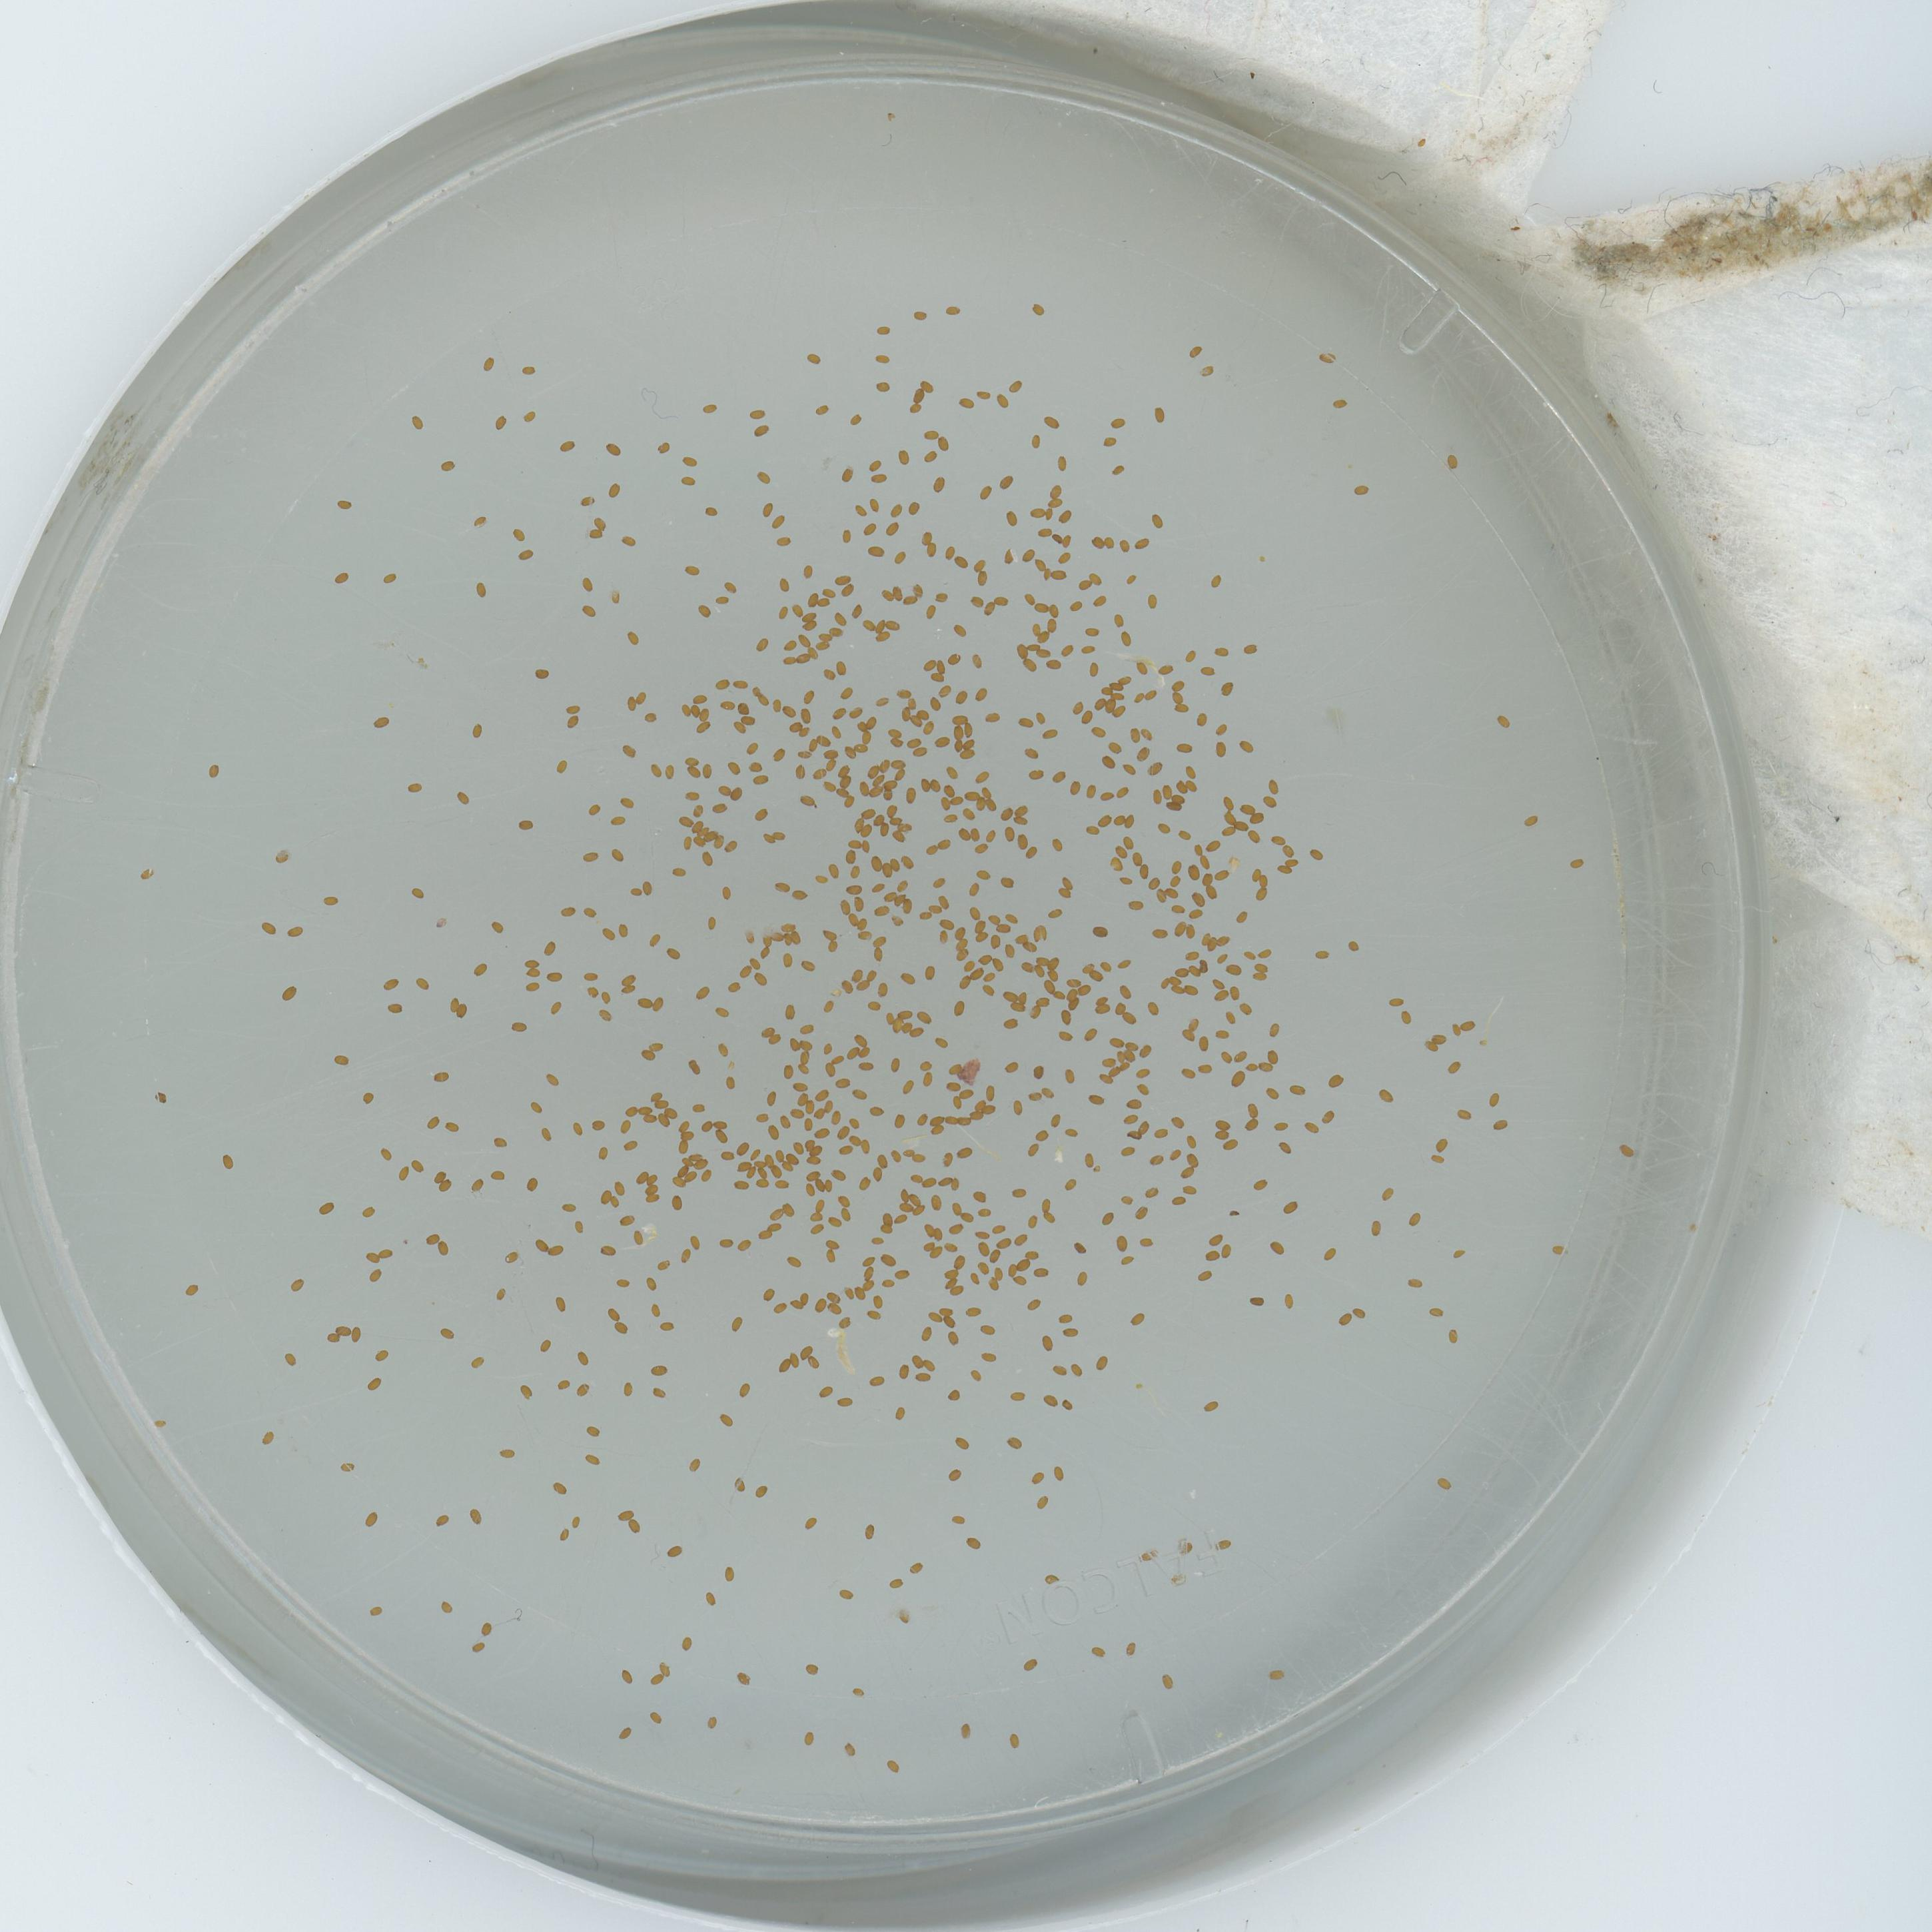seed: (1550, 1238, 1573, 1260), (1617, 1141, 1638, 1162), (1226, 1067, 1247, 1086), (885, 520, 904, 538), (605, 437, 623, 456), (957, 395, 977, 412), (694, 984, 713, 1001), (879, 1249, 899, 1267), (1132, 745, 1152, 763), (1039, 412, 1058, 430), (1001, 510, 1021, 527), (1030, 925, 1049, 943), (1111, 1231, 1131, 1249), (1168, 1111, 1187, 1129), (1058, 1323, 1077, 1341), (722, 577, 740, 594), (559, 902, 577, 920), (605, 481, 623, 499), (929, 474, 947, 492), (862, 520, 879, 538), (793, 763, 810, 780), (932, 587, 950, 605), (771, 747, 789, 764), (800, 793, 817, 810), (901, 853, 918, 870), (747, 683, 764, 701), (840, 582, 858, 600), (771, 513, 789, 531), (892, 1405, 909, 1422), (361, 1509, 379, 1527), (667, 1543, 685, 1560), (617, 1116, 635, 1134), (280, 984, 297, 1001), (862, 1522, 879, 1539), (782, 1001, 800, 1019), (524, 1173, 541, 1191), (998, 472, 1016, 490), (1212, 741, 1230, 759), (1150, 405, 1168, 423), (1090, 922, 1108, 939), (1005, 1433, 1023, 1451), (1037, 1332, 1054, 1350), (1302, 1116, 1320, 1134), (1267, 1237, 1284, 1254), (1058, 1065, 1076, 1083), (1139, 1548, 1157, 1566), (846, 881, 865, 897), (936, 913, 955, 929), (847, 704, 867, 720), (694, 720, 713, 736), (754, 694, 773, 709), (915, 1007, 934, 1023), (931, 1033, 950, 1049), (952, 1435, 971, 1451), (916, 1325, 936, 1341), (1125, 897, 1145, 913), (1017, 545, 1037, 561), (1039, 725, 1058, 741), (1085, 1090, 1104, 1106), (780, 639, 798, 655), (832, 610, 849, 626), (479, 356, 497, 372), (260, 918, 278, 934), (579, 492, 596, 508), (713, 800, 729, 817), (839, 685, 856, 701), (791, 888, 809, 904), (895, 448, 913, 464), (702, 504, 720, 520), (541, 939, 559, 955), (715, 593, 732, 609), (380, 570, 398, 586), (945, 651, 962, 667), (472, 580, 488, 598), (580, 904, 598, 920), (754, 807, 771, 823), (695, 603, 713, 619), (941, 543, 957, 561), (888, 502, 906, 518), (869, 541, 886, 557), (826, 863, 844, 879), (755, 469, 773, 485), (488, 918, 506, 934), (727, 759, 745, 775), (520, 361, 538, 377), (287, 922, 304, 938), (681, 453, 699, 469), (886, 616, 904, 632), (837, 899, 855, 915), (372, 713, 389, 729), (510, 525, 527, 541), (679, 472, 697, 488), (564, 701, 582, 717), (840, 467, 858, 483), (835, 570, 853, 586), (869, 855, 885, 872), (754, 423, 771, 439), (782, 653, 800, 669), (849, 602, 867, 617), (692, 690, 709, 706), (609, 847, 626, 863), (835, 660, 853, 676), (619, 796, 637, 812), (580, 603, 598, 619), (582, 849, 600, 865), (936, 433, 952, 451), (616, 922, 633, 938), (798, 632, 816, 648), (847, 865, 865, 881), (934, 734, 952, 750), (272, 849, 288, 867), (832, 724, 847, 741), (729, 786, 747, 801), (559, 1198, 577, 1214), (713, 1127, 731, 1143), (635, 993, 653, 1008), (947, 1219, 962, 1237), (869, 1166, 886, 1182), (918, 1072, 936, 1088), (888, 1054, 906, 1070), (812, 1196, 830, 1212), (467, 1507, 485, 1523), (658, 1316, 676, 1332), (856, 1175, 874, 1191), (375, 1145, 393, 1161), (218, 1152, 235, 1168), (364, 1375, 382, 1391), (869, 1371, 886, 1387), (839, 1585, 856, 1601), (552, 1479, 570, 1495), (586, 1451, 602, 1468), (258, 1430, 276, 1445), (736, 1139, 754, 1155), (469, 1177, 487, 1192), (651, 1361, 669, 1376), (612, 1320, 630, 1336), (442, 1116, 460, 1132), (642, 1276, 660, 1292), (734, 1670, 752, 1686), (738, 1380, 754, 1398), (494, 1284, 510, 1302), (800, 1017, 816, 1035), (617, 1210, 635, 1226), (817, 1382, 835, 1398), (685, 1058, 702, 1074), (678, 1635, 695, 1651), (182, 1281, 200, 1297), (281, 1350, 299, 1366), (782, 1062, 798, 1079), (317, 1198, 334, 1214), (575, 1348, 591, 1366), (780, 1201, 798, 1217), (771, 1299, 789, 1315), (373, 1346, 391, 1362), (536, 1336, 554, 1352), (786, 1253, 803, 1269), (690, 1099, 708, 1115), (856, 1058, 874, 1074), (423, 1230, 441, 1246), (510, 1017, 527, 1033), (648, 1300, 665, 1316), (803, 1514, 821, 1530), (793, 1077, 810, 1093), (651, 1384, 669, 1399), (667, 1192, 685, 1208), (582, 968, 600, 984), (826, 1288, 844, 1304), (338, 1458, 356, 1474), (798, 1049, 814, 1067), (847, 1113, 865, 1129), (826, 1212, 844, 1228), (646, 1191, 663, 1207), (909, 1023, 927, 1039), (752, 971, 770, 987), (973, 770, 991, 786), (1099, 755, 1116, 771), (1090, 724, 1108, 740), (993, 593, 1010, 609), (1090, 593, 1108, 609), (1212, 722, 1230, 738), (1046, 904, 1063, 920), (1237, 740, 1254, 755), (1219, 794, 1237, 810), (1157, 662, 1175, 678), (1021, 747, 1039, 763), (1120, 761, 1138, 777), (1116, 632, 1134, 648), (1046, 481, 1063, 497), (1047, 839, 1065, 855), (1249, 810, 1267, 826), (1106, 738, 1122, 755), (1148, 513, 1166, 529), (1330, 395, 1348, 410), (1198, 663, 1215, 679), (977, 483, 994, 499), (1191, 711, 1208, 727), (1146, 761, 1164, 777), (1099, 433, 1116, 449), (1014, 715, 1031, 731), (1352, 479, 1368, 497), (1175, 828, 1192, 844), (1253, 888, 1270, 904), (1169, 920, 1187, 936), (1313, 945, 1330, 961), (1569, 855, 1585, 872), (1033, 522, 1051, 538), (1217, 679, 1235, 695), (1168, 678, 1185, 694), (1138, 725, 1155, 741), (1237, 800, 1254, 816), (993, 391, 1010, 407), (1260, 794, 1277, 810), (1000, 943, 1017, 959), (1030, 557, 1047, 573), (970, 826, 985, 844), (962, 787, 980, 803), (1187, 893, 1205, 909), (1108, 462, 1125, 478), (991, 954, 1007, 971), (1046, 1111, 1063, 1127), (1010, 1230, 1028, 1246), (1123, 1093, 1141, 1109), (1141, 1182, 1159, 1198), (1116, 1191, 1134, 1207), (1237, 1000, 1254, 1016), (1116, 984, 1134, 1000), (1215, 1047, 1233, 1063), (1272, 1116, 1290, 1132), (1433, 1134, 1451, 1150), (1454, 1104, 1472, 1120), (1288, 1079, 1306, 1095), (1445, 1058, 1463, 1074), (1024, 1088, 1042, 1104), (1327, 1070, 1345, 1086), (1056, 1007, 1074, 1023), (1491, 1115, 1509, 1131), (1001, 1058, 1019, 1074), (1460, 1016, 1477, 1031), (1070, 1238, 1088, 1254), (1031, 1123, 1047, 1141), (1378, 1086, 1396, 1102), (1159, 1674, 1175, 1691), (1030, 1063, 1047, 1079), (1116, 1253, 1134, 1269), (1378, 1185, 1396, 1201), (1366, 1219, 1384, 1235), (1276, 1139, 1293, 1155), (1088, 1644, 1106, 1660), (1281, 1198, 1299, 1214), (1146, 1150, 1164, 1166), (1244, 1100, 1261, 1116), (1060, 1175, 1077, 1191), (1023, 1141, 1040, 1157), (1486, 1090, 1504, 1106), (1023, 1244, 1040, 1260), (1178, 1539, 1196, 1555), (1269, 1667, 1286, 1683), (872, 904, 892, 918), (747, 759, 766, 773), (1074, 579, 1093, 593), (1039, 1392, 1058, 1407), (1430, 1028, 1449, 1042), (812, 766, 828, 782), (906, 499, 922, 515), (876, 694, 892, 709), (322, 893, 338, 909), (333, 570, 349, 586), (718, 886, 734, 902), (672, 865, 688, 881), (492, 414, 508, 430), (704, 915, 720, 931), (922, 720, 938, 736), (518, 817, 534, 833), (913, 306, 929, 322), (522, 407, 538, 423), (409, 412, 425, 428), (778, 577, 794, 593), (580, 577, 596, 593), (336, 497, 352, 513), (472, 513, 488, 529), (534, 667, 550, 683), (755, 637, 771, 653), (717, 782, 732, 798), (623, 695, 639, 711), (950, 623, 966, 639), (621, 745, 637, 761), (817, 731, 833, 747), (777, 533, 793, 548), (690, 803, 706, 819), (559, 437, 575, 453), (469, 724, 485, 740), (904, 789, 920, 805), (600, 925, 616, 941), (775, 879, 791, 895), (750, 405, 766, 421), (720, 697, 736, 713), (869, 495, 885, 511), (801, 688, 817, 704), (844, 851, 860, 867), (556, 759, 571, 775), (610, 814, 626, 830), (862, 617, 878, 633), (656, 439, 672, 455), (625, 630, 640, 646), (849, 410, 865, 426), (925, 543, 941, 559), (662, 764, 678, 780), (941, 780, 957, 796), (922, 603, 938, 619), (761, 501, 777, 517), (621, 533, 637, 548), (908, 734, 924, 750), (780, 954, 796, 970), (922, 448, 938, 464), (665, 945, 681, 961), (640, 881, 656, 897), (725, 839, 741, 855), (648, 763, 663, 778), (205, 763, 221, 778), (775, 605, 791, 621), (644, 709, 660, 725), (853, 502, 869, 518), (867, 713, 883, 729), (587, 527, 603, 543), (648, 931, 663, 947), (901, 897, 916, 913), (844, 745, 860, 761), (943, 764, 959, 780), (678, 702, 694, 718), (929, 1192, 945, 1208), (556, 1375, 571, 1391), (901, 970, 916, 985), (895, 1364, 911, 1380), (872, 1293, 888, 1309), (605, 1304, 621, 1320), (554, 1295, 570, 1311), (386, 998, 402, 1014), (499, 1444, 515, 1460), (908, 1559, 924, 1575), (617, 1504, 633, 1520), (754, 1481, 770, 1497), (718, 1233, 734, 1249), (888, 1575, 904, 1591), (619, 1668, 635, 1684), (837, 1191, 853, 1207), (722, 1566, 738, 1582), (591, 1115, 607, 1131), (570, 1514, 586, 1530), (879, 1208, 895, 1224), (945, 1387, 961, 1403), (433, 1511, 449, 1527), (947, 1467, 962, 1483), (600, 1240, 616, 1256), (939, 1150, 955, 1166), (616, 1274, 632, 1290), (598, 1007, 614, 1023), (816, 1123, 832, 1139), (886, 1757, 902, 1773), (724, 1074, 740, 1090), (732, 1476, 748, 1491), (837, 1392, 853, 1408), (688, 1233, 704, 1249), (575, 1380, 591, 1396), (361, 1201, 377, 1217), (545, 1070, 561, 1086), (678, 1247, 694, 1263), (430, 1166, 446, 1182), (738, 1237, 754, 1253), (471, 1638, 487, 1654), (623, 1136, 639, 1152), (548, 998, 564, 1014), (439, 1325, 455, 1341), (395, 1164, 410, 1180), (617, 1723, 633, 1739), (948, 1200, 964, 1215), (612, 1178, 628, 1194), (626, 1518, 642, 1534), (763, 1284, 778, 1300), (288, 1276, 304, 1292), (950, 998, 966, 1014), (492, 1132, 508, 1148), (630, 1228, 646, 1244), (729, 1315, 745, 1330), (856, 977, 872, 993), (895, 1265, 911, 1281), (950, 1253, 966, 1269), (533, 1237, 548, 1253), (437, 1599, 453, 1615), (764, 1088, 780, 1104), (349, 1325, 364, 1341), (556, 1527, 571, 1543), (918, 1054, 934, 1070), (435, 1240, 451, 1256), (333, 1049, 349, 1065), (548, 1242, 564, 1258), (518, 1382, 534, 1398), (359, 1088, 375, 1104), (425, 1113, 441, 1129), (594, 1145, 610, 1161), (410, 1157, 426, 1173), (704, 1591, 720, 1606), (432, 1067, 448, 1083), (839, 1207, 855, 1223), (718, 1412, 734, 1428), (777, 1357, 793, 1373), (715, 1003, 731, 1019), (538, 1125, 554, 1141), (837, 1315, 853, 1330), (807, 1355, 823, 1371), (571, 1217, 587, 1233), (823, 1247, 839, 1263), (881, 1274, 897, 1290), (823, 1062, 839, 1077), (379, 1244, 395, 1260), (924, 1357, 939, 1373), (632, 1168, 648, 1184), (821, 1040, 837, 1056), (810, 1208, 826, 1224), (858, 1044, 874, 1060), (842, 1741, 858, 1757), (801, 1730, 817, 1746), (872, 1150, 888, 1166), (794, 1092, 810, 1108), (1007, 377, 1023, 393), (998, 874, 1014, 890), (1184, 863, 1200, 879), (1214, 644, 1230, 660), (1083, 625, 1099, 640), (1182, 648, 1198, 663), (1109, 414, 1125, 430), (985, 709, 1001, 725), (1187, 343, 1203, 359), (1233, 909, 1249, 925), (975, 386, 991, 402), (1214, 869, 1230, 885), (1053, 455, 1069, 471), (1219, 810, 1235, 826), (1109, 612, 1125, 628), (968, 653, 984, 669), (973, 686, 989, 702), (1065, 780, 1081, 796), (1127, 851, 1143, 867), (1145, 593, 1161, 609), (1067, 699, 1083, 715), (1026, 766, 1042, 782), (1495, 713, 1511, 729), (1056, 508, 1072, 524), (1058, 874, 1074, 890), (1086, 570, 1102, 586), (1049, 770, 1065, 786), (968, 904, 984, 920), (1014, 833, 1030, 849), (1086, 533, 1102, 548), (1083, 784, 1099, 800), (1182, 764, 1198, 780), (1079, 642, 1095, 658), (1023, 846, 1039, 862), (1058, 642, 1074, 658), (1123, 727, 1139, 743), (984, 828, 1000, 844), (996, 807, 1012, 823), (1198, 363, 1214, 379), (1318, 349, 1334, 364), (1000, 548, 1016, 564), (1444, 453, 1460, 469), (984, 796, 1000, 812), (1099, 1208, 1115, 1224), (1132, 1203, 1148, 1219), (1145, 1000, 1161, 1016), (1263, 1083, 1279, 1099), (1129, 1309, 1145, 1325), (1178, 1026, 1194, 1042), (966, 1534, 982, 1550), (975, 1226, 991, 1242), (1028, 1468, 1044, 1484), (1093, 1353, 1109, 1369), (1407, 1274, 1422, 1290), (1445, 1327, 1461, 1343), (1040, 1083, 1056, 1099), (1049, 1465, 1065, 1481), (1021, 1656, 1037, 1672), (1083, 1026, 1099, 1042), (1263, 1046, 1279, 1062), (1058, 1028, 1074, 1044), (1031, 1265, 1047, 1281), (1069, 1361, 1085, 1376), (1215, 1536, 1231, 1552), (1207, 1230, 1223, 1246), (1122, 1640, 1138, 1656), (1265, 1021, 1281, 1037), (1120, 1010, 1136, 1026), (1062, 1123, 1077, 1139), (1352, 1304, 1368, 1320), (1196, 1267, 1212, 1283), (1398, 1008, 1414, 1024), (1072, 1270, 1088, 1286), (1003, 1014, 1019, 1030), (1024, 1295, 1040, 1311), (1407, 1210, 1422, 1226), (968, 1366, 984, 1382), (1122, 1109, 1138, 1125), (987, 1247, 1003, 1263), (1180, 1180, 1196, 1196), (1221, 1008, 1237, 1024), (1042, 1571, 1058, 1587), (1058, 1396, 1074, 1412), (1233, 1046, 1249, 1062), (1428, 1304, 1444, 1320), (1077, 980, 1093, 996), (1336, 1311, 1352, 1327), (1447, 1021, 1463, 1037), (975, 1242, 991, 1258), (895, 1610, 911, 1626), (140, 865, 156, 881), (435, 916, 451, 932), (961, 750, 977, 766), (876, 350, 893, 364), (801, 564, 819, 579), (812, 874, 830, 888), (701, 853, 718, 867), (867, 456, 885, 471), (754, 775, 771, 789), (685, 754, 702, 768), (405, 780, 423, 794), (872, 932, 890, 947), (897, 685, 915, 699), (830, 625, 847, 639), (685, 789, 702, 803), (771, 828, 789, 842), (784, 704, 801, 718), (607, 591, 625, 605), (761, 833, 778, 847), (901, 1079, 918, 1093), (732, 1177, 750, 1191), (870, 1231, 888, 1246), (699, 1168, 717, 1182), (674, 1138, 692, 1152), (648, 1674, 665, 1688), (617, 982, 635, 996), (945, 1060, 962, 1074), (639, 1047, 656, 1062), (366, 1267, 384, 1281), (828, 1300, 846, 1315), (363, 1249, 380, 1263), (619, 971, 637, 985), (366, 1603, 384, 1617), (784, 1152, 801, 1166), (478, 1621, 495, 1635), (545, 970, 563, 984), (324, 1330, 341, 1345), (892, 1115, 909, 1129), (725, 980, 743, 994), (584, 984, 602, 998), (736, 966, 754, 980), (948, 1284, 966, 1299), (943, 1265, 961, 1279), (924, 1173, 941, 1187), (152, 1088, 170, 1102), (943, 1113, 961, 1127), (1246, 832, 1263, 846), (1021, 658, 1039, 672), (1113, 784, 1131, 798), (1168, 902, 1185, 916), (1044, 658, 1062, 672), (1185, 909, 1203, 924), (1150, 925, 1168, 939), (1116, 876, 1134, 890), (1203, 839, 1221, 853), (1164, 886, 1182, 901), (1145, 878, 1162, 892), (1166, 862, 1184, 876), (1093, 814, 1111, 828), (1212, 950, 1230, 964), (1306, 847, 1323, 862), (1166, 801, 1184, 816), (1219, 826, 1237, 840), (1148, 789, 1162, 807), (1132, 662, 1150, 676), (1109, 998, 1127, 1012), (1214, 1115, 1231, 1129), (1178, 1065, 1196, 1079), (1242, 1116, 1260, 1131), (1136, 1233, 1154, 1247), (978, 1322, 996, 1336), (1008, 1389, 1026, 1403), (1212, 1024, 1230, 1039), (1279, 1293, 1297, 1307), (1008, 1100, 1026, 1115), (1182, 1134, 1200, 1148), (1035, 1196, 1053, 1210), (1201, 1247, 1219, 1261), (1132, 1079, 1150, 1093), (989, 1219, 1007, 1233), (1194, 1035, 1212, 1049), (1247, 1293, 1265, 1307), (1320, 1246, 1338, 1260), (1208, 975, 1226, 989), (1095, 1070, 1113, 1085), (1086, 970, 1104, 984), (1228, 982, 1242, 1000), (1449, 1246, 1467, 1260), (943, 1276, 961, 1290), (1198, 957, 1212, 975), (855, 1284, 867, 1304), (1185, 964, 1205, 977), (745, 741, 761, 755), (853, 897, 869, 911), (929, 671, 945, 685), (455, 791, 471, 805), (587, 803, 603, 817), (832, 706, 847, 720), (591, 515, 607, 529), (945, 812, 961, 826), (893, 550, 909, 564), (908, 403, 924, 418), (839, 529, 855, 543), (685, 563, 701, 577), (715, 678, 731, 692), (821, 584, 837, 598), (872, 472, 888, 487), (862, 807, 878, 821), (678, 814, 694, 828), (807, 350, 823, 364), (518, 547, 534, 561), (870, 881, 886, 895), (816, 402, 832, 416), (738, 701, 754, 715), (945, 303, 961, 317), (878, 322, 893, 336), (924, 426, 939, 441), (702, 764, 717, 780), (686, 768, 702, 782), (876, 379, 892, 393), (410, 885, 425, 901), (895, 879, 911, 893), (899, 708, 915, 722), (702, 400, 718, 414), (934, 931, 950, 945), (936, 837, 952, 851), (637, 690, 651, 706), (564, 717, 580, 731), (441, 456, 455, 472), (888, 725, 904, 740), (885, 803, 901, 817), (734, 676, 750, 690), (931, 876, 947, 890), (872, 947, 886, 962), (909, 582, 925, 596), (821, 669, 837, 683), (791, 602, 805, 617), (883, 890, 899, 904), (938, 796, 952, 812), (952, 725, 966, 741), (936, 685, 952, 699), (823, 780, 839, 794), (713, 833, 727, 849), (844, 796, 860, 810), (950, 711, 966, 725), (770, 697, 784, 713), (846, 837, 862, 851), (628, 886, 644, 901), (920, 375, 934, 391), (796, 651, 812, 665), (787, 720, 803, 734), (823, 747, 839, 761), (939, 895, 954, 911), (801, 621, 817, 635), (862, 824, 878, 839), (879, 586, 893, 602), (851, 817, 865, 833), (803, 607, 819, 621), (922, 656, 936, 672), (839, 764, 855, 778), (860, 731, 876, 745), (817, 628, 833, 642), (770, 929, 786, 943), (812, 1297, 828, 1311), (586, 1422, 602, 1437), (853, 1030, 869, 1044), (839, 1141, 855, 1155), (382, 977, 398, 991), (826, 1235, 842, 1249), (867, 998, 883, 1012), (816, 1085, 832, 1099), (334, 1320, 349, 1336), (649, 1035, 665, 1049), (835, 1074, 851, 1088), (469, 1353, 485, 1368), (713, 1115, 729, 1129), (686, 1456, 702, 1470), (524, 966, 540, 980), (915, 1369, 931, 1384), (876, 982, 892, 996), (720, 1146, 736, 1161), (490, 1168, 506, 1182), (621, 1382, 637, 1396), (786, 1037, 801, 1051), (570, 1120, 586, 1134), (821, 998, 837, 1012), (865, 968, 881, 982), (805, 1661, 821, 1675), (651, 996, 667, 1010), (920, 1238, 936, 1253), (502, 1249, 518, 1263), (598, 989, 614, 1003), (656, 1256, 672, 1270), (649, 1711, 665, 1725), (529, 1099, 545, 1113), (798, 1290, 814, 1304), (801, 1184, 817, 1198), (697, 1116, 713, 1131), (775, 1178, 791, 1192), (839, 978, 855, 993), (927, 1309, 943, 1323), (909, 1353, 925, 1368), (718, 1042, 734, 1056), (805, 1168, 821, 1182), (938, 1173, 954, 1187), (766, 1123, 782, 1138), (456, 1003, 471, 1019), (851, 1684, 867, 1698), (800, 1341, 816, 1355), (929, 1125, 945, 1139), (950, 1511, 964, 1527), (524, 978, 540, 993), (770, 1207, 784, 1223), (947, 1077, 962, 1092), (800, 1037, 816, 1051), (596, 1189, 612, 1203), (754, 1177, 770, 1191), (437, 1178, 453, 1192), (757, 1228, 773, 1242), (932, 1224, 947, 1240), (915, 1113, 929, 1129), (706, 1716, 722, 1730), (835, 1123, 851, 1138), (759, 1023, 775, 1037), (862, 1253, 878, 1267), (913, 1150, 929, 1164), (890, 1146, 904, 1162), (755, 1109, 771, 1123), (658, 1660, 672, 1675), (683, 1168, 699, 1182), (789, 1352, 803, 1368), (851, 966, 865, 982), (656, 1113, 672, 1127), (745, 1164, 761, 1178), (1269, 832, 1284, 846), (985, 934, 1001, 948), (1031, 600, 1047, 614), (1031, 711, 1047, 725), (1279, 844, 1295, 858), (1079, 709, 1095, 724), (985, 909, 1001, 924), (1019, 591, 1035, 605), (1083, 826, 1099, 840), (1265, 780, 1281, 794), (975, 869, 991, 883), (1132, 536, 1148, 550), (1099, 789, 1115, 803), (1207, 575, 1223, 589), (1155, 823, 1171, 837), (1003, 909, 1019, 924), (966, 885, 982, 899), (1085, 663, 1100, 678), (1026, 504, 1042, 518), (977, 950, 993, 964), (973, 844, 989, 858), (1054, 550, 1070, 564), (971, 920, 987, 934), (1026, 433, 1042, 448), (1242, 642, 1258, 656), (970, 594, 984, 610), (1067, 598, 1083, 612), (975, 571, 991, 586), (1187, 844, 1203, 858), (1051, 568, 1067, 582), (1109, 814, 1125, 828), (1184, 947, 1200, 961), (1111, 846, 1127, 860), (1175, 741, 1191, 755), (1014, 931, 1030, 945), (1203, 886, 1219, 901), (1012, 644, 1028, 658), (971, 557, 987, 571), (1028, 301, 1044, 315), (1525, 814, 1541, 828), (1134, 865, 1150, 879), (1111, 704, 1127, 718), (1014, 801, 1028, 817), (1120, 833, 1134, 849), (1184, 924, 1200, 938), (1152, 890, 1168, 904), (1035, 630, 1051, 644), (973, 931, 989, 945), (982, 602, 996, 617), (1249, 869, 1265, 883), (1122, 573, 1138, 587), (1008, 998, 1024, 1012), (980, 1350, 996, 1364), (1081, 1152, 1095, 1168), (1223, 1138, 1238, 1152), (1166, 1146, 1182, 1161), (966, 1304, 982, 1318), (1099, 1053, 1115, 1067), (1056, 1309, 1072, 1323), (1212, 987, 1228, 1001), (1171, 1192, 1185, 1208), (1203, 1398, 1219, 1412), (1136, 1042, 1152, 1056), (1196, 1060, 1212, 1074), (1320, 1108, 1336, 1122), (1389, 994, 1405, 1008), (1109, 1033, 1123, 1049), (1001, 987, 1017, 1001), (1033, 993, 1049, 1007), (1023, 1214, 1039, 1228), (1120, 1143, 1136, 1157), (1253, 1177, 1269, 1191), (1428, 1150, 1444, 1164), (1010, 1185, 1026, 1200), (977, 1258, 991, 1274), (1219, 1242, 1233, 1258), (1178, 1166, 1194, 1180), (1010, 1274, 1026, 1288), (977, 1205, 993, 1219), (1152, 1125, 1168, 1139), (1049, 1362, 1065, 1376), (982, 1104, 998, 1118), (971, 1187, 987, 1201), (1184, 1152, 1200, 1166), (985, 1276, 1001, 1290), (1033, 1495, 1049, 1509), (1134, 1063, 1150, 1077), (1435, 1476, 1451, 1490), (1123, 1127, 1139, 1141), (1039, 978, 1054, 993), (980, 982, 996, 996), (1049, 987, 1065, 1001), (1039, 1210, 1054, 1224), (1028, 1005, 1042, 1021), (991, 1265, 1005, 1281), (959, 1210, 975, 1224), (1003, 1260, 1017, 1276), (1155, 977, 1171, 991), (1007, 1736, 1023, 1750), (957, 1723, 973, 1737), (154, 1417, 170, 1431), (679, 1155, 695, 1169), (755, 1164, 771, 1178), (1067, 994, 1081, 1010), (1258, 874, 1274, 888), (1102, 699, 1116, 715), (807, 646, 823, 660), (757, 947, 773, 961), (741, 931, 757, 945), (759, 932, 775, 947), (973, 798, 989, 812), (855, 929, 872, 941), (913, 747, 931, 759), (800, 961, 817, 973), (830, 1169, 847, 1182), (897, 1007, 915, 1019), (1231, 821, 1249, 833), (1056, 886, 1074, 899), (1159, 782, 1171, 800), (1168, 692, 1185, 704), (1093, 1001, 1111, 1014), (1092, 991, 1109, 1003), (780, 1111, 791, 1131), (929, 695, 943, 709), (847, 913, 862, 927), (918, 529, 932, 543), (805, 593, 819, 607), (918, 908, 932, 922), (856, 782, 870, 796), (865, 764, 879, 778), (862, 839, 876, 853), (911, 387, 925, 402), (924, 842, 938, 856), (855, 718, 869, 732), (920, 778, 934, 793), (869, 786, 883, 800), (909, 715, 924, 729), (855, 741, 869, 755), (679, 837, 694, 851), (414, 977, 428, 991), (472, 962, 487, 977), (883, 1010, 897, 1024), (924, 966, 938, 980), (945, 1238, 959, 1253), (945, 1330, 959, 1345), (736, 1159, 750, 1173), (849, 1131, 863, 1145), (913, 1203, 927, 1217), (625, 1102, 639, 1116), (640, 1111, 655, 1125), (909, 1171, 924, 1185), (895, 1187, 909, 1201), (803, 1100, 817, 1115), (771, 1162, 786, 1177), (1108, 856, 1122, 870), (1001, 828, 1016, 842), (1145, 688, 1159, 702), (980, 786, 994, 800), (1116, 540, 1131, 554), (1100, 536, 1115, 550), (1198, 856, 1212, 870), (1200, 874, 1214, 888), (1044, 617, 1058, 632), (1173, 778, 1187, 793), (1258, 945, 1272, 959), (1090, 699, 1104, 713), (984, 1086, 998, 1100), (1185, 1014, 1200, 1028), (968, 1272, 982, 1286), (994, 1235, 1008, 1249), (1138, 1118, 1152, 1132), (676, 1162, 690, 1177), (970, 1109, 984, 1123), (856, 916, 870, 931), (704, 830, 718, 844), (1109, 679, 1123, 694), (876, 630, 892, 642), (916, 708, 932, 720), (800, 709, 816, 722), (890, 915, 906, 927), (892, 832, 908, 844), (955, 690, 968, 706), (732, 724, 748, 736), (692, 837, 708, 849), (794, 748, 810, 761), (791, 931, 803, 947), (824, 759, 840, 771), (952, 556, 968, 568), (741, 715, 757, 727), (890, 738, 906, 750), (934, 658, 947, 674), (798, 727, 814, 740), (893, 768, 909, 780), (892, 755, 908, 768), (816, 639, 832, 651), (881, 862, 893, 878), (867, 1309, 883, 1322), (810, 1223, 826, 1235), (789, 1106, 805, 1118), (948, 1095, 964, 1108), (929, 1113, 945, 1125), (895, 1212, 911, 1224), (448, 998, 460, 1014), (766, 1031, 782, 1044), (639, 1102, 655, 1115), (832, 1108, 844, 1123), (920, 1224, 936, 1237), (793, 1139, 805, 1155), (879, 1223, 895, 1235), (768, 1219, 784, 1231), (816, 1106, 832, 1118), (899, 1200, 915, 1212), (901, 1021, 916, 1033), (655, 1097, 671, 1109), (1168, 876, 1184, 888), (1047, 495, 1063, 508), (1012, 816, 1028, 828), (1346, 939, 1362, 952), (1240, 950, 1256, 962), (1215, 932, 1231, 945), (1033, 646, 1049, 658), (1047, 602, 1060, 617), (1173, 704, 1189, 717), (961, 809, 977, 821), (1044, 508, 1056, 524), (1097, 683, 1113, 695), (1116, 672, 1132, 685), (1109, 690, 1125, 702), (1283, 856, 1299, 869), (1033, 954, 1049, 966), (1047, 955, 1063, 968), (1016, 1258, 1031, 1270), (1063, 975, 1079, 987), (1244, 1058, 1260, 1070), (1424, 1040, 1440, 1053), (1258, 1058, 1274, 1070), (1019, 959, 1035, 971), (957, 1088, 973, 1100), (1200, 931, 1212, 947), (1207, 936, 1219, 952), (1253, 961, 1269, 973), (890, 1017, 902, 1033), (954, 938, 970, 950), (1081, 962, 1097, 975), (1099, 961, 1115, 973), (874, 617, 886, 633), (690, 821, 706, 833), (901, 596, 918, 607), (890, 855, 901, 872), (679, 1129, 697, 1139), (809, 1146, 826, 1157), (993, 924, 1010, 934), (1276, 863, 1293, 874), (1168, 794, 1185, 805), (964, 720, 975, 738), (1212, 1131, 1230, 1141), (1224, 964, 1242, 975), (962, 957, 973, 975), (817, 598, 832, 610), (782, 920, 796, 932), (885, 780, 899, 793), (929, 902, 943, 915), (699, 708, 713, 720), (908, 697, 922, 709), (931, 778, 943, 793), (826, 939, 840, 952), (954, 927, 966, 941), (879, 759, 893, 771), (890, 816, 904, 828), (883, 787, 895, 801), (807, 738, 821, 750), (840, 775, 853, 789), (747, 957, 761, 970), (954, 740, 966, 754), (853, 1088, 867, 1100), (801, 1116, 814, 1131), (610, 1196, 625, 1208), (862, 1139, 874, 1154), (791, 1297, 803, 1311), (846, 1044, 858, 1058), (678, 1118, 692, 1131), (823, 1097, 835, 1111), (671, 1175, 685, 1187), (931, 1246, 945, 1258), (665, 1104, 679, 1116), (902, 1145, 916, 1157), (842, 1284, 855, 1299), (911, 1191, 924, 1205), (863, 1265, 878, 1277), (775, 1146, 787, 1161), (1185, 780, 1200, 793), (1060, 534, 1072, 548), (1122, 816, 1136, 828), (1131, 692, 1145, 704), (1026, 623, 1039, 637), (1049, 533, 1063, 545), (1185, 982, 1198, 996), (982, 970, 996, 982), (970, 970, 984, 982), (1123, 1040, 1138, 1053), (1065, 987, 1077, 1001), (1169, 984, 1184, 996), (1016, 991, 1030, 1003), (1047, 968, 1062, 980), (1115, 1049, 1127, 1063), (957, 1115, 971, 1127), (798, 1063, 812, 1076), (1028, 640, 1042, 653), (695, 826, 709, 839), (694, 1159, 708, 1171), (901, 821, 915, 833), (524, 955, 540, 966), (893, 586, 904, 602), (833, 789, 849, 800), (959, 828, 970, 844), (869, 1106, 885, 1116), (955, 1145, 966, 1161), (805, 1155, 821, 1166), (644, 1184, 660, 1194), (651, 1088, 662, 1104), (1023, 941, 1039, 952), (1171, 966, 1187, 977), (1253, 971, 1269, 982), (1030, 966, 1046, 977), (690, 704, 701, 720), (1116, 957, 1134, 966), (879, 824, 892, 837), (874, 816, 886, 828), (893, 895, 906, 908), (945, 1315, 957, 1327), (648, 1169, 660, 1182), (1108, 1065, 1120, 1077), (975, 1099, 987, 1111), (1040, 568, 1053, 580), (952, 796, 962, 810), (823, 929, 837, 939), (955, 950, 970, 961), (814, 1178, 824, 1192), (688, 1152, 702, 1162), (939, 1304, 954, 1315), (748, 1150, 763, 1161), (950, 1178, 961, 1192), (964, 736, 975, 750), (966, 1143, 977, 1157), (823, 1178, 833, 1192), (1125, 1049, 1136, 1063), (1120, 1060, 1131, 1074), (832, 1054, 846, 1065), (1169, 977, 1184, 987), (782, 932, 793, 947), (764, 1154, 775, 1168), (872, 775, 886, 786), (961, 975, 970, 991), (805, 1139, 816, 1152), (863, 1277, 874, 1290), (752, 1157, 764, 1168), (782, 1161, 793, 1173)
